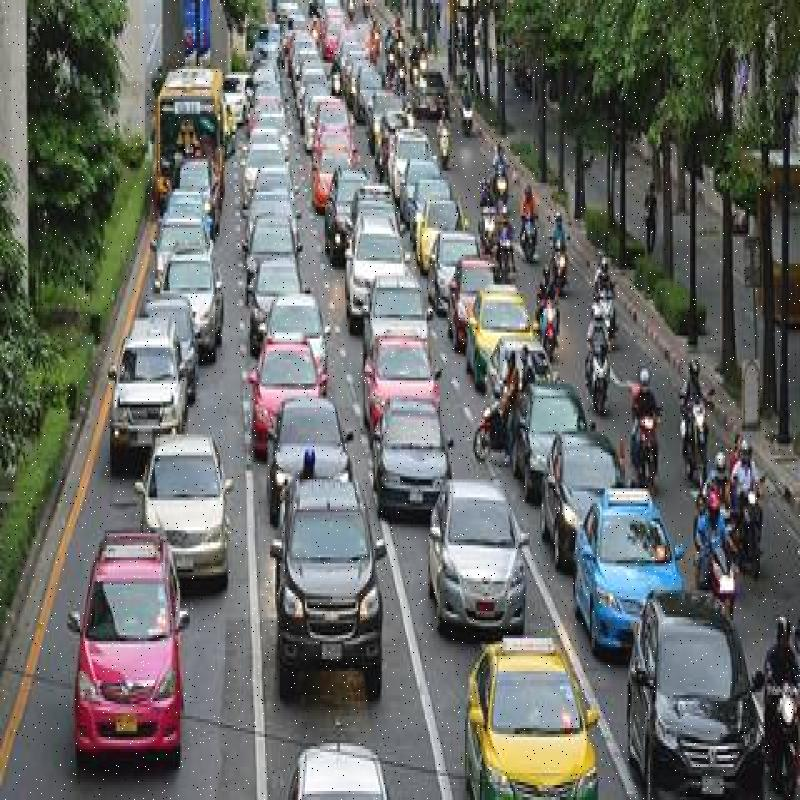car: (80, 524, 196, 740), (269, 496, 377, 683), (628, 600, 730, 798), (471, 631, 578, 800), (149, 423, 239, 592), (433, 487, 522, 637), (267, 408, 349, 534), (372, 397, 449, 530), (107, 332, 185, 458), (534, 420, 616, 538), (589, 505, 668, 623), (159, 242, 230, 359), (440, 253, 514, 362), (251, 324, 322, 432), (266, 288, 338, 390), (140, 291, 206, 398), (244, 240, 314, 335), (471, 279, 533, 378), (517, 385, 572, 479), (429, 224, 482, 306), (165, 204, 212, 284), (410, 185, 466, 251), (401, 152, 450, 201)
